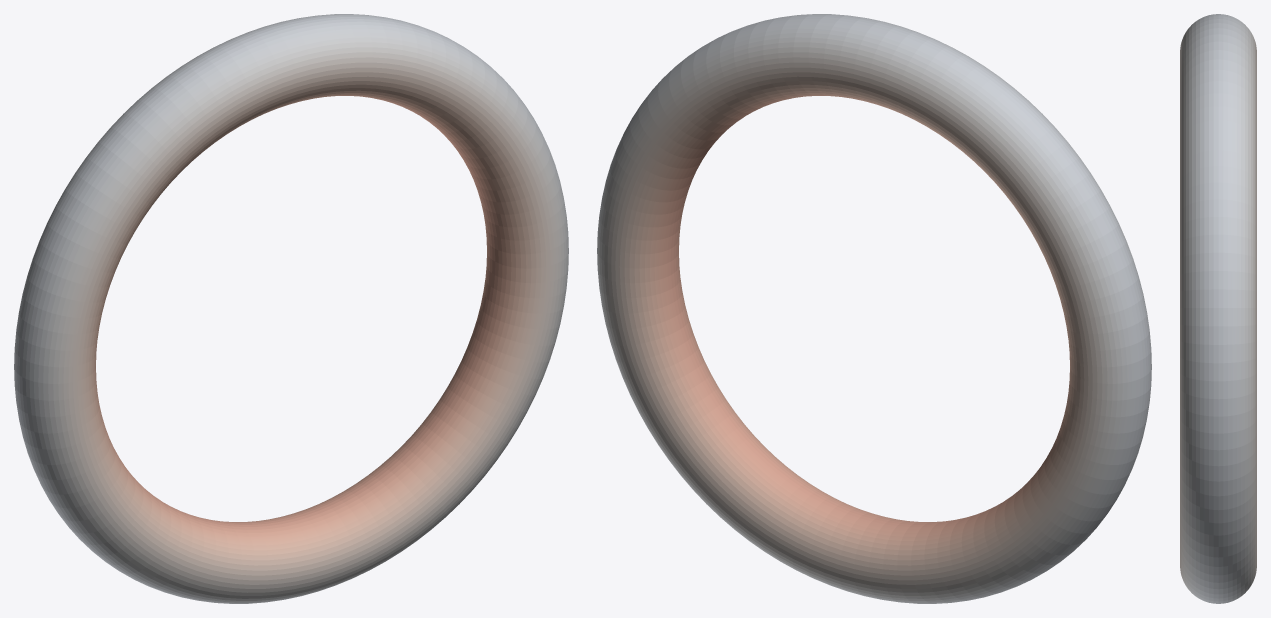
3 renders of one model, left to right at view 1: azimuth 30°, elevation 25°; view 2: azimuth 150°, elevation 25°; view 3: azimuth 270°, elevation 25°, orthographic. The views are drawn at different scales.
Visible parts, largest first — view 1: world; view 2: world; view 3: world.
Boxes of the visible parts, x1,y1,x2,y2 form: world: (14,14,568,603); world: (597,14,1151,603); world: (1180,14,1256,603).
Size of the model in its own units: 33.73 by 33.73 by 4.39.
